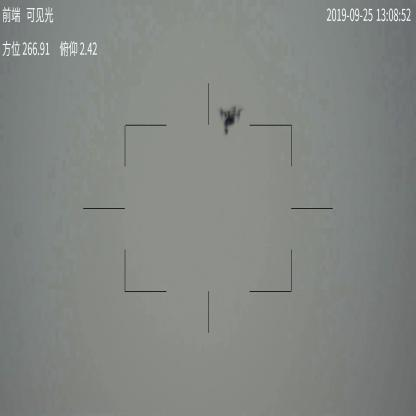uav: (219, 105, 244, 134)
